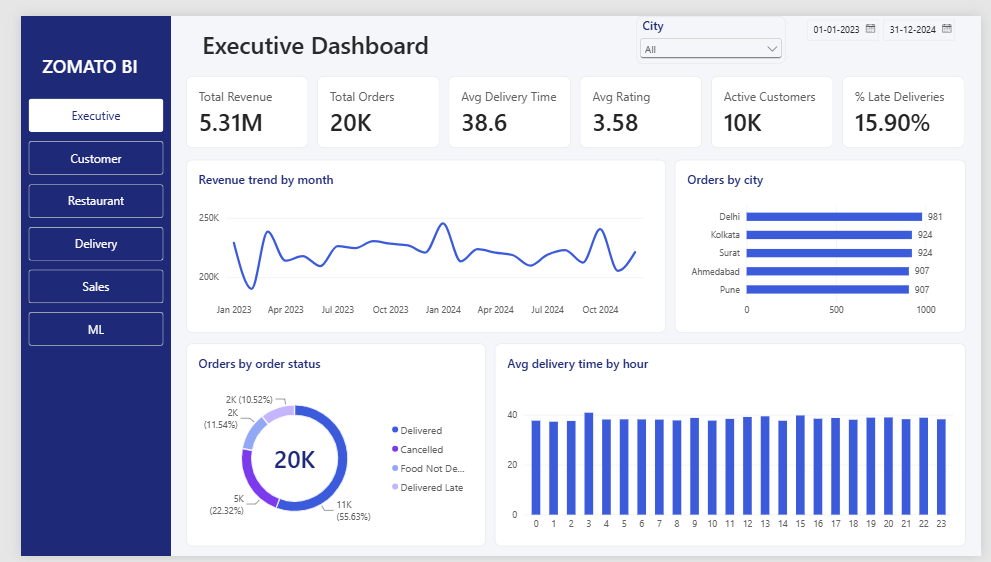

The dashboard page shown, as its layout file describes it:
{"tool":"powerbi","page":{"name":"Executive","canvas":[1280,720],"ordinal":0},"visuals":[{"type":"cardVisual","fields":{"Data":["orders.Total Orders"]},"box":[395,80,163,96],"z":0},{"type":"cardVisual","title":"card","fields":{"Data":["orders.Total Revenue"]},"box":[220,80,163,96],"z":1000},{"type":"cardVisual","fields":{"Data":["cities.Avg Delivery Time"]},"box":[570,80,163,96],"z":2000},{"type":"cardVisual","fields":{"Data":["cities.Active Customers"]},"box":[920,80,163,96],"z":3000},{"type":"cardVisual","fields":{"Data":["customer_feedback.Avg Rating"]},"box":[745,80,163,96],"z":4000},{"type":"cardVisual","fields":{"Data":["orders.% Late Deliveries"]},"box":[1095,80,163,96],"z":5000},{"type":"slicer","fields":{"Values":["DateTable.Date"]},"box":[1040,0,220,63.3],"z":6000},{"type":"slicer","fields":{"Values":["cities.City"]},"box":[820,0,200,63.8],"z":7000},{"type":"lineChart","title":"Revenue trend by month","fields":{"Category":["DateTable.MonthStart"],"Y":["orders.Total Revenue"]},"box":[220,192,640,230],"z":8000},{"type":"clusteredBarChart","fields":{"Category":["cities.City"],"Y":["orders.Total Orders"]},"box":[45.7,871.4,575.7,208.6],"z":9000},{"type":"donutChart","title":"Orders by order status","fields":{"Category":["orders.OrderStatus"],"Y":["orders.Total Orders"]},"box":[220,436,400,270],"z":10000},{"type":"shape","box":[0,0,200,720],"z":11000},{"type":"textbox","box":[8.3,30,183.3,71.7],"z":12000},{"type":"textbox","box":[241.7,16.7,328.3,46.7],"z":13000},{"type":"clusteredBarChart","title":"Orders by city","fields":{"Category":["cities.City"],"Y":["orders.Total Orders"]},"box":[872,192,388,230],"z":14000},{"type":"clusteredColumnChart","title":"Avg delivery time by hour","fields":{"Category":["orders.OrderHour"],"Y":["cities.Avg Delivery Time"]},"box":[632,436,628,270],"z":15000},{"type":"pageNavigator","box":[10,110,180,330],"z":16000}]}

Visuals, with their boxes in screenshot pixels (x1, y1, x2, y2), scaled from the page's 1280x720 canvas onto the 991x562 screenshot:
cardVisual - orders.Total Orders: (306,62,432,137)
"card" cardVisual: (170,62,297,137)
cardVisual - cities.Avg Delivery Time: (441,62,568,137)
cardVisual - cities.Active Customers: (712,62,838,137)
cardVisual - customer_feedback.Avg Rating: (577,62,703,137)
cardVisual - orders.% Late Deliveries: (848,62,974,137)
slicer - DateTable.Date: (805,0,976,49)
slicer - cities.City: (635,0,790,50)
"Revenue trend by month" lineChart: (170,150,666,329)
"Orders by order status" donutChart: (170,340,480,551)
shape: (0,0,155,561)
textbox: (6,23,148,79)
textbox: (187,13,441,49)
"Orders by city" clusteredBarChart: (675,150,976,329)
"Avg delivery time by hour" clusteredColumnChart: (489,340,976,551)
pageNavigator: (8,86,147,343)
